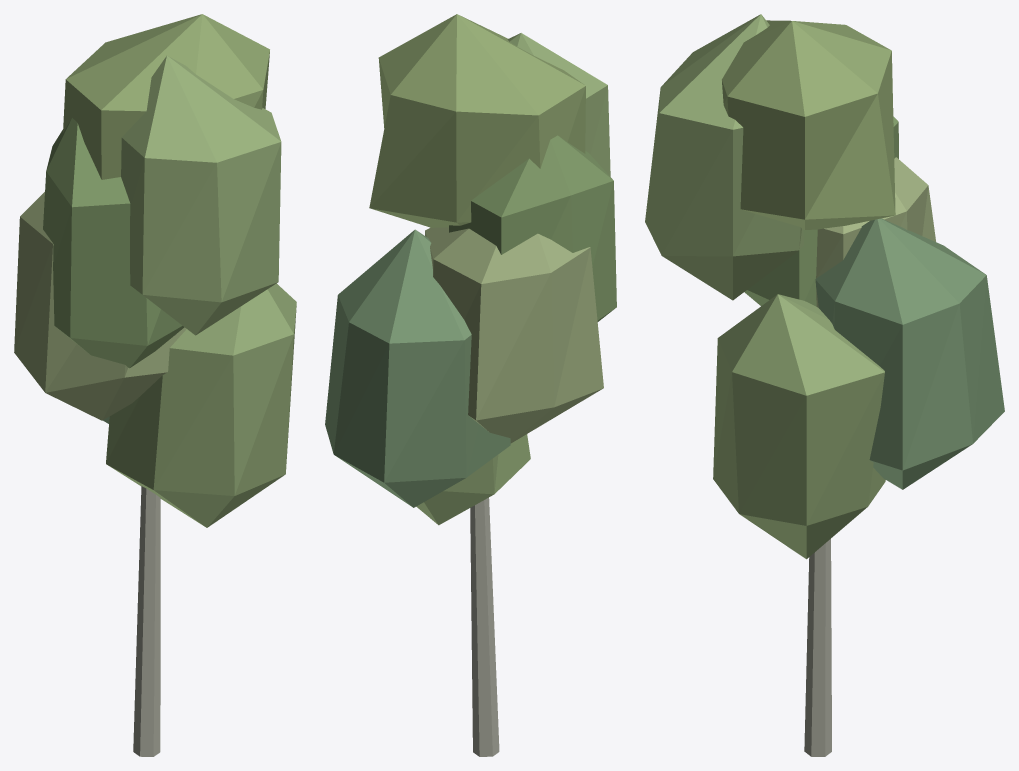
3 renders of one model, left to right at view 1: azimuth 30°, elevation 25°; view 2: azimuth 150°, elevation 25°; view 3: azimuth 270°, elevation 25°, orthographic. The views are drawn at different scales.
Size of the model in its own units: 5.64 by 15.56 by 6.75.
